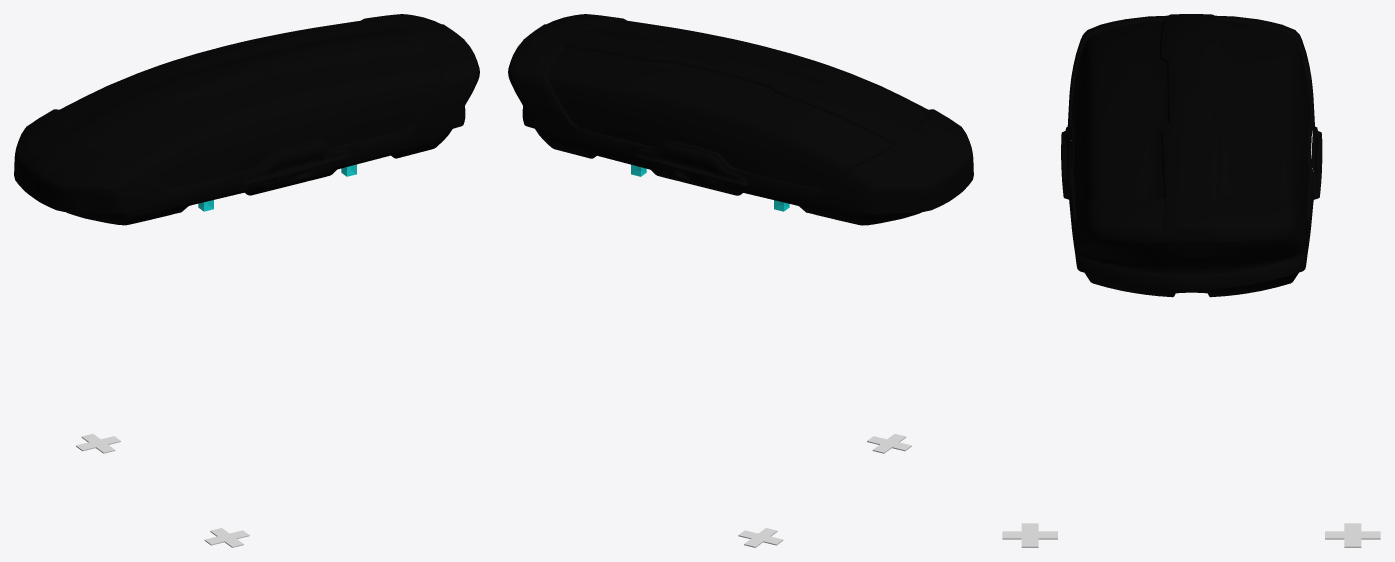
Rendered from Plustwo.glb.
3 renders of one model, left to right at view 1: azimuth 30°, elevation 25°; view 2: azimuth 150°, elevation 25°; view 3: azimuth 270°, elevation 25°, orthographic. The views are drawn at different scales.
Parts seen in each view (by area): view 1: XT_XL_low; view 2: XT_XL_low; view 3: XT_XL_low, Box006, Box008.
Boxes of the visible parts, x1=… form: XT_XL_low: x1=14, y1=14, x2=479, y2=225; XT_XL_low: x1=508, y1=14, x2=973, y2=225; XT_XL_low: x1=1061, y1=14, x2=1322, y2=297; Box006: x1=1002, y1=531, x2=1057, y2=539; Box008: x1=1325, y1=531, x2=1380, y2=539.
Bounding box in the file's own units: 2.14 × 1.95 × 1.32.
3 materials, 2 textured.
